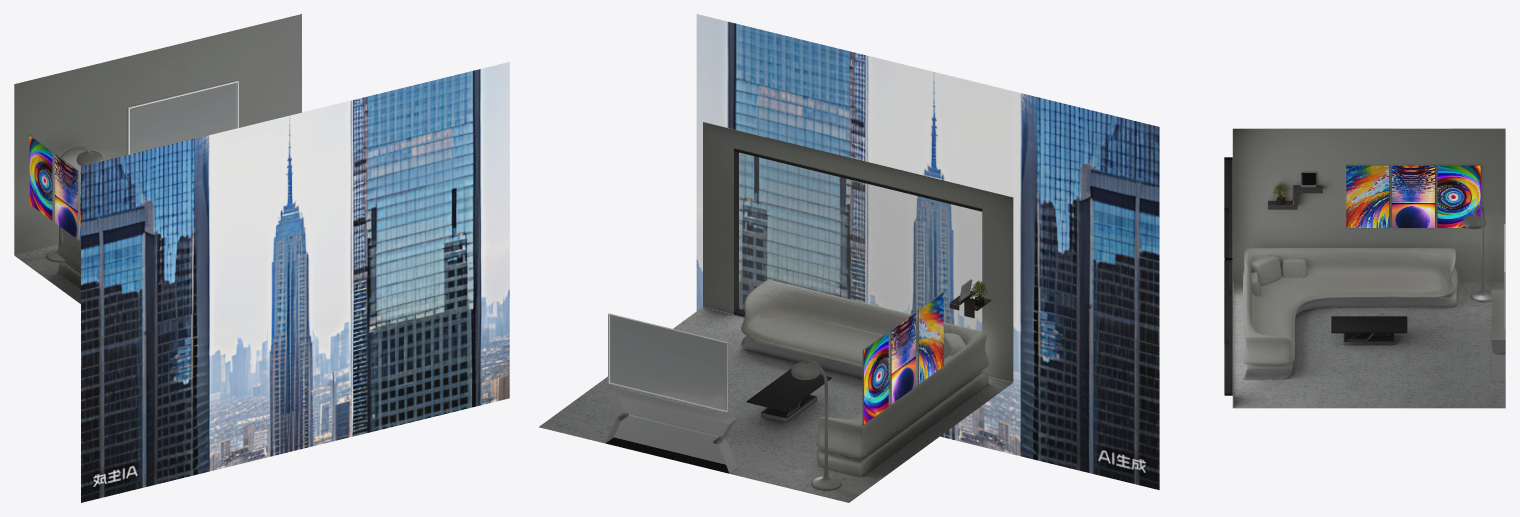
File: livingroom-min.glb
3 views of the same model, side by side, from view 1: azimuth 30°, elevation 25°; view 2: azimuth 150°, elevation 25°; view 3: azimuth 270°, elevation 25° (orthographic). The views are drawn at different scales.
Visible parts, largest first — view 1: 平面, Structure, TV, AbstractArt_AbstractArt_0.003, AbstractArt_AbstractArt_0.002, Sofa, Lamp; view 2: 平面, Structure, Windows, Sofa, TV, TVStand, CoffeeTable, AbstractArt_AbstractArt_0.001, AbstractArt_AbstractArt_0.003, AbstractArt_AbstractArt_0.002, Lamp; view 3: Structure, Sofa, AbstractArt_AbstractArt_0.001, AbstractArt_AbstractArt_0.002, AbstractArt_AbstractArt_0.003, CoffeeTable, Pillows, TVStand, Lamp.
Part boxes in pixels (bbox=[...]): 平面: bbox=[81, 62, 509, 502]; Structure: bbox=[14, 14, 301, 303]; TV: bbox=[127, 80, 238, 154]; AbstractArt_AbstractArt_0.003: bbox=[29, 136, 52, 220]; AbstractArt_AbstractArt_0.002: bbox=[55, 154, 77, 238]; Sofa: bbox=[58, 220, 80, 288]; Lamp: bbox=[46, 146, 103, 262]; 平面: bbox=[696, 14, 1159, 489]; Structure: bbox=[539, 122, 1013, 502]; Windows: bbox=[739, 153, 981, 331]; Sofa: bbox=[741, 280, 988, 476]; TV: bbox=[608, 313, 727, 412]; TVStand: bbox=[605, 388, 737, 473]; CoffeeTable: bbox=[746, 368, 831, 422]; AbstractArt_AbstractArt_0.001: bbox=[919, 292, 943, 383]; AbstractArt_AbstractArt_0.003: bbox=[864, 333, 888, 424]; AbstractArt_AbstractArt_0.002: bbox=[891, 313, 915, 403]; Lamp: bbox=[791, 359, 841, 490]; Structure: bbox=[1224, 128, 1505, 408]; Sofa: bbox=[1243, 248, 1457, 379]; AbstractArt_AbstractArt_0.001: bbox=[1346, 165, 1389, 227]; AbstractArt_AbstractArt_0.002: bbox=[1392, 165, 1434, 227]; AbstractArt_AbstractArt_0.003: bbox=[1437, 165, 1480, 227]; CoffeeTable: bbox=[1331, 316, 1407, 345]; Pillows: bbox=[1251, 255, 1306, 296]; TVStand: bbox=[1491, 289, 1505, 381]; Lamp: bbox=[1462, 205, 1491, 302].
Size of the model in its own units: 8 by 6 by 5.72.
Materials: 15 (14 with a texture image).
